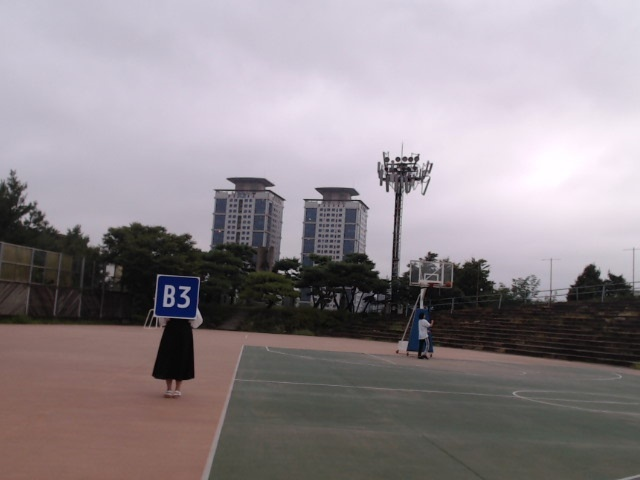delivery_b3: (155, 275, 200, 319)
